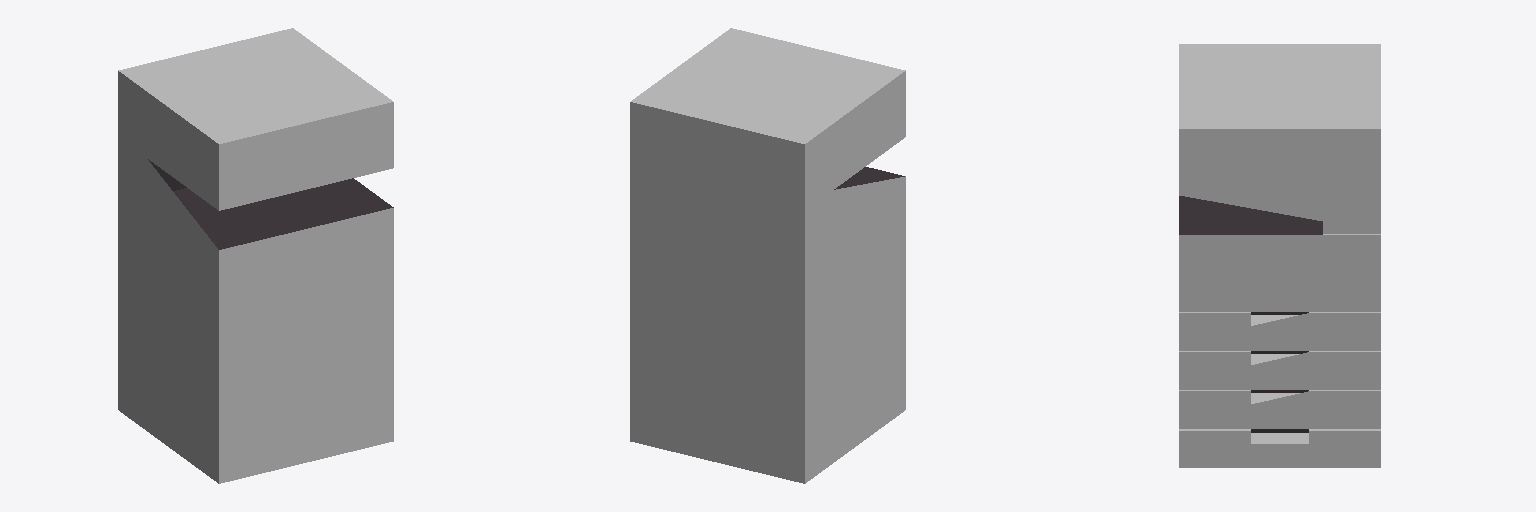
File: printer.obj
The picture shows the model from 3 angles: view 1: azimuth 30°, elevation 25°; view 2: azimuth 150°, elevation 25°; view 3: azimuth 270°, elevation 25°; orthographic projection.
Visible parts, largest first — view 1: Cube; view 2: Cube; view 3: Cube.
Boxes of the visible parts, x1,y1,x2,y2 form: Cube: [118, 28, 393, 483]; Cube: [630, 28, 905, 483]; Cube: [1179, 44, 1380, 467].
Size of the model in its own units: 0.7 by 1.3 by 0.7.